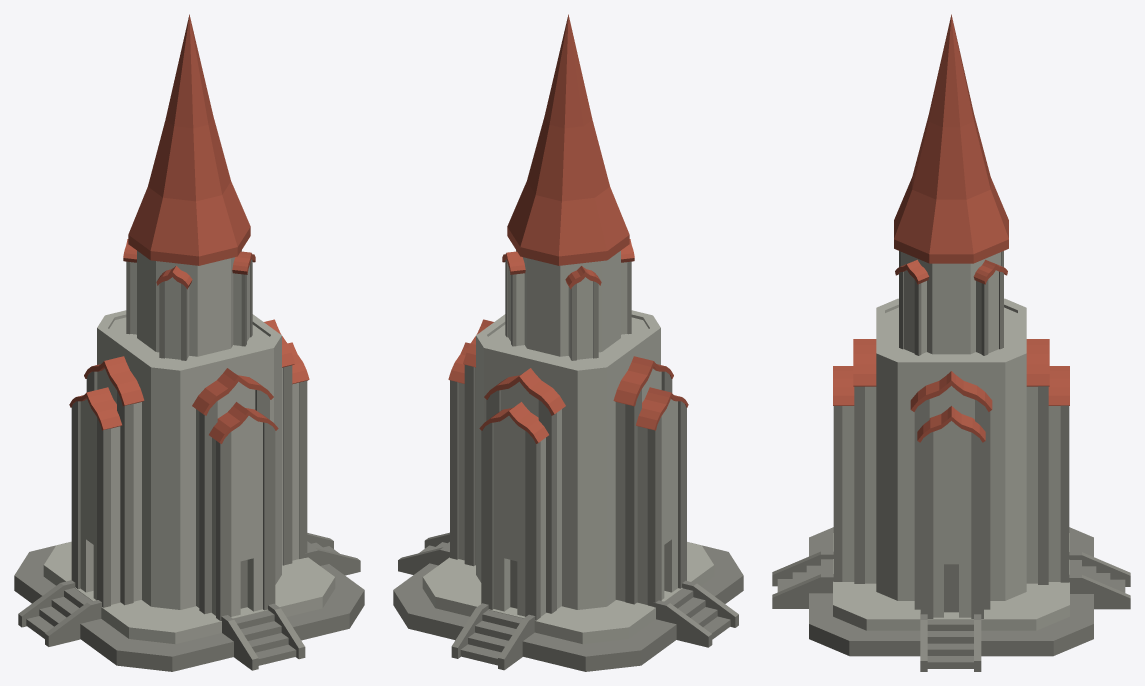
The model's file is Temple-v36uJiErXS.glb.
3 views of the same model, side by side, from view 1: azimuth 30°, elevation 25°; view 2: azimuth 150°, elevation 25°; view 3: azimuth 270°, elevation 25° (orthographic).
Parts seen in each view (by area): view 1: Temple-v36uJiErXS; view 2: Temple-v36uJiErXS; view 3: Temple-v36uJiErXS.
Boxes of the visible parts, x1,y1,x2,y2 form: Temple-v36uJiErXS: (14,14,364,671); Temple-v36uJiErXS: (393,14,743,671); Temple-v36uJiErXS: (772,14,1130,671).
Size of the model in its own units: 3.16 by 5.66 by 3.16.
